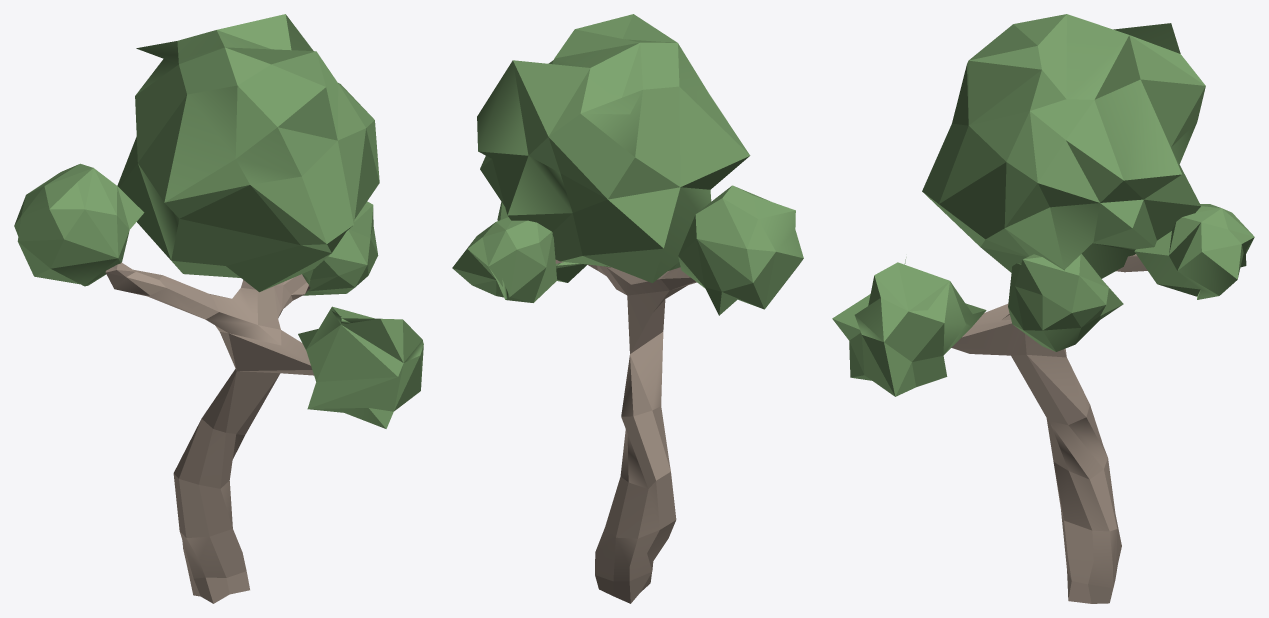
The model's file is tree6.fbx.
The picture shows the model from 3 angles, left to right: view 1: azimuth 30°, elevation 25°; view 2: azimuth 150°, elevation 25°; view 3: azimuth 270°, elevation 25°; orthographic projection. The views are drawn at different scales.
Visible parts, largest first — view 1: pSolid27, pCube6, pSolid25, pSolid23, pSolid26; view 2: pSolid27, pCube6, pSolid25, pSolid24, pSolid26; view 3: pSolid27, pCube6, pSolid23, pSolid26, pSolid24.
Boxes of the visible parts, left/top/right/bottom form: pSolid27: left=117, top=14, right=379, bottom=292; pCube6: left=105, top=262, right=313, bottom=603; pSolid25: left=14, top=163, right=144, bottom=286; pSolid23: left=298, top=306, right=423, bottom=428; pSolid26: left=302, top=201, right=378, bottom=295; pSolid27: left=477, top=14, right=750, bottom=282; pCube6: left=555, top=259, right=696, bottom=603; pSolid25: left=678, top=185, right=803, bottom=315; pSolid24: left=452, top=217, right=556, bottom=302; pSolid26: left=497, top=202, right=586, bottom=282; pSolid27: left=922, top=14, right=1205, bottom=278; pCube6: left=951, top=254, right=1147, bottom=603; pSolid23: left=832, top=257, right=986, bottom=396; pSolid26: left=1008, top=254, right=1123, bottom=351; pSolid24: left=1134, top=204, right=1254, bottom=299.
Size of the model in its own units: 7.08 by 11.4 by 7.46.
